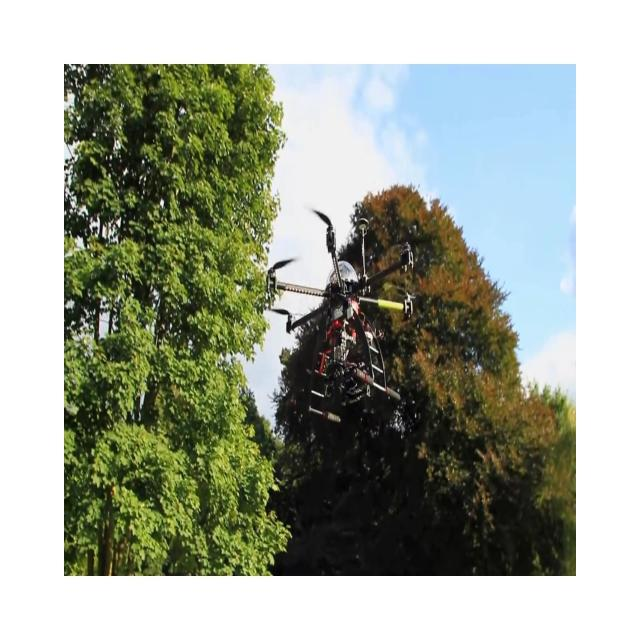drone: (264, 207, 416, 424)
